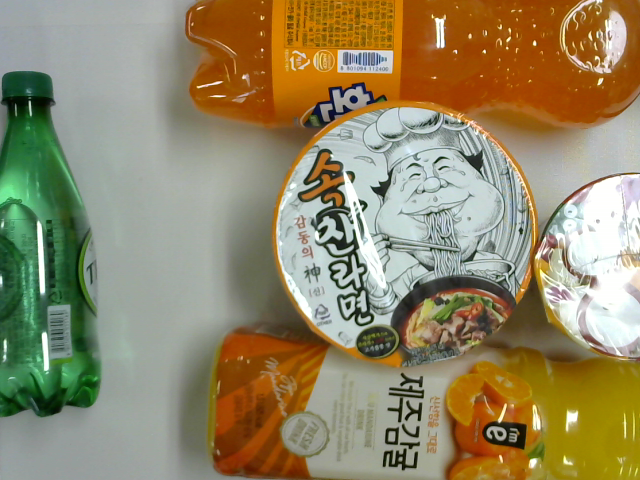Hejangchan: (262, 93, 542, 377)
Hwanta_Orange_1.5L: (178, 1, 640, 136)
Jeju_Tangerine_1.5L: (207, 312, 640, 479)
Raccoon: (531, 170, 640, 364)
Treviraim_500ml: (1, 67, 104, 414)
